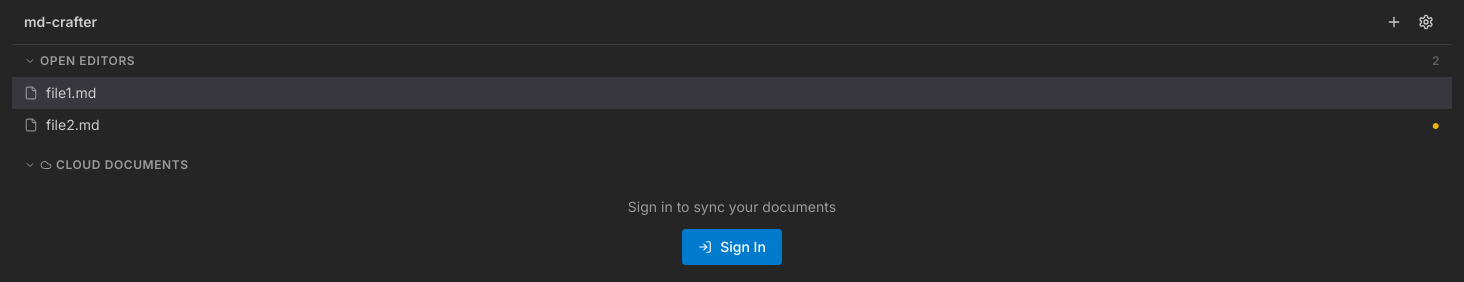
Test: Sidebar › Cloud Documents Section › should toggle cloud documents section
Expected: the text "Sign in to sync your documents" is shown, [628,198,836,215]
Click the button "CLOUD DOCUMENTS" at x=122, y=164, box [24,157,1440,173]
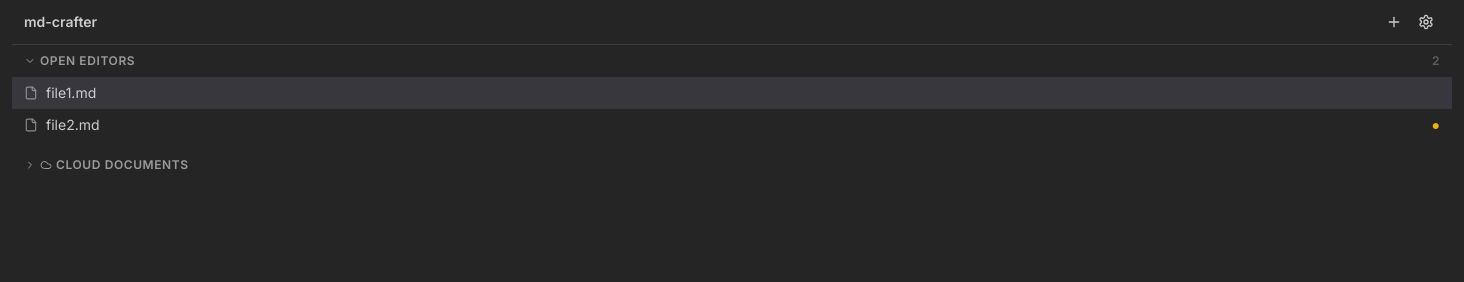
Result: the text "Sign in to sync your documents" is gone
